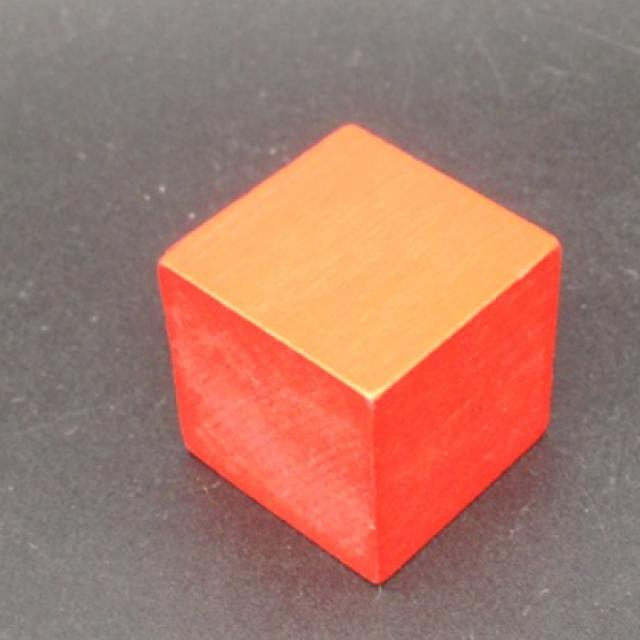red cube: (156, 125, 563, 588)
